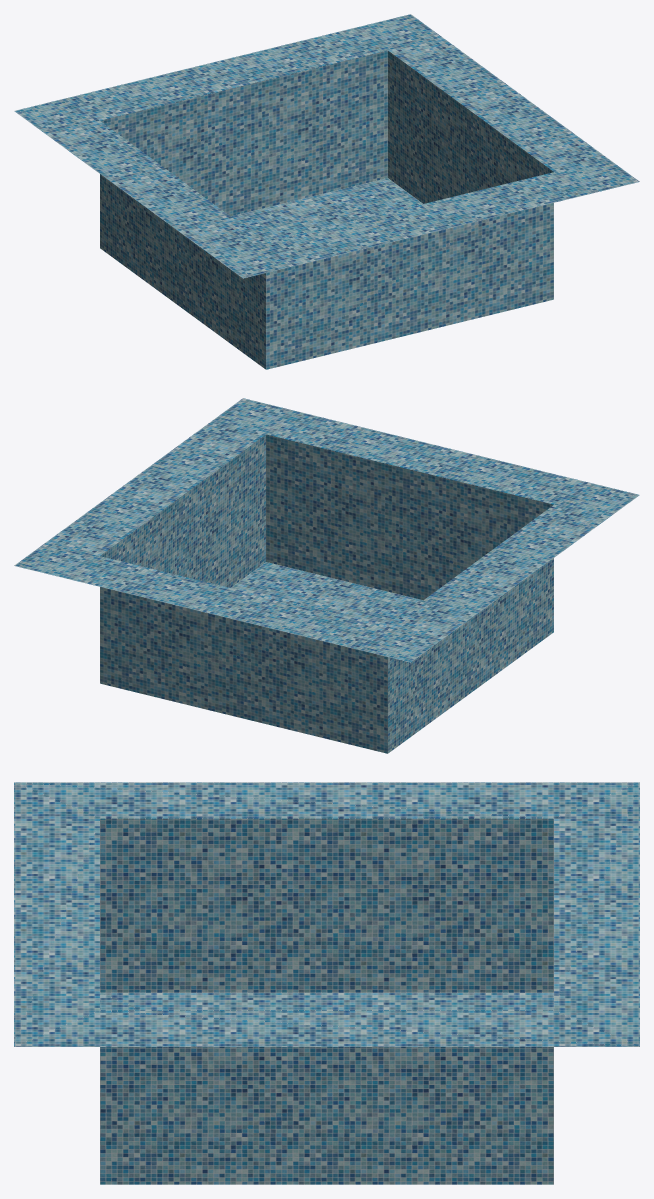
The model's file is pool.obj.
The picture shows the model from 3 angles, top to bottom: view 1: azimuth 30°, elevation 25°; view 2: azimuth 150°, elevation 25°; view 3: azimuth 270°, elevation 25°; orthographic projection. The views are drawn at different scales.
Visible parts, largest first — view 1: Cube_Cube.001; view 2: Cube_Cube.001; view 3: Cube_Cube.001.
Boxes of the visible parts, bbox=[...] form: Cube_Cube.001: bbox=[14, 14, 639, 369]; Cube_Cube.001: bbox=[14, 398, 639, 753]; Cube_Cube.001: bbox=[14, 782, 639, 1184].
Size of the model in its own units: 50.17 by 15.4 by 50.17.
